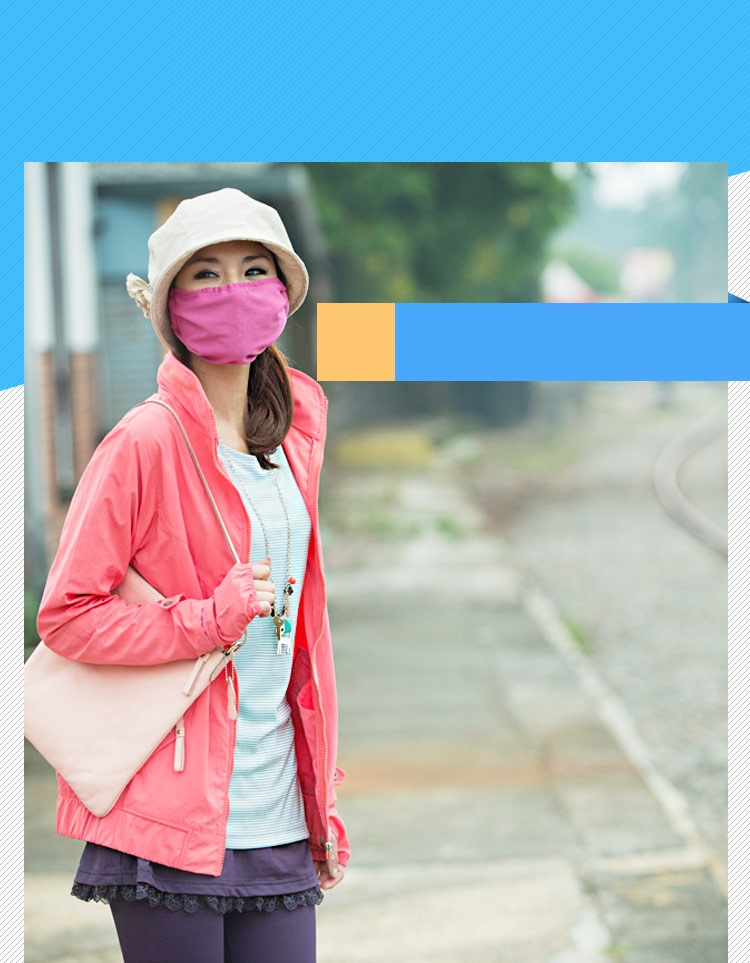face_mask: (180, 226, 283, 363)
